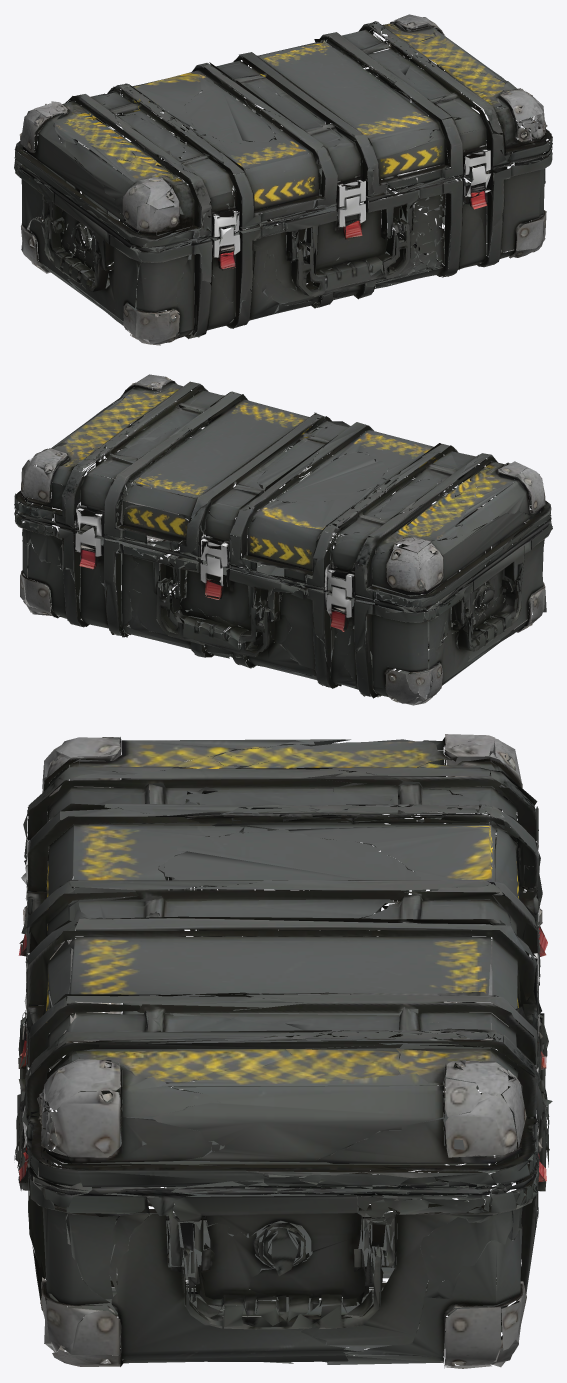
The model's file is weapon_flamethrower_case.glb.
The picture shows the model from 3 angles, top to bottom: view 1: azimuth 30°, elevation 25°; view 2: azimuth 150°, elevation 25°; view 3: azimuth 270°, elevation 25°; orthographic projection. The views are drawn at different scales.
Parts seen in each view (by area): view 1: HB_LID_00, HB_BODY; view 2: HB_LID_00, HB_BODY; view 3: HB_LID_00, HB_BODY.
Part boxes in pixels (box(x1,y1,x2,y2)): HB_LID_00: box(14, 14, 552, 264); HB_BODY: box(21, 78, 546, 345); HB_LID_00: box(14, 374, 552, 627); HB_BODY: box(20, 438, 546, 705); HB_LID_00: box(21, 734, 543, 1225); HB_BODY: box(14, 843, 552, 1368).
Size of the model in its own units: 1.1 by 0.3961 by 0.6434.
Materials: 1 (1 with a texture image).
